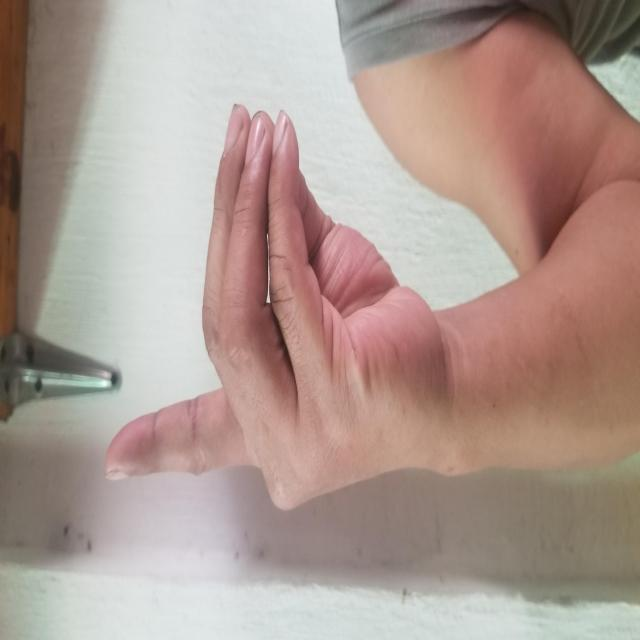D: (133, 105, 534, 439)
